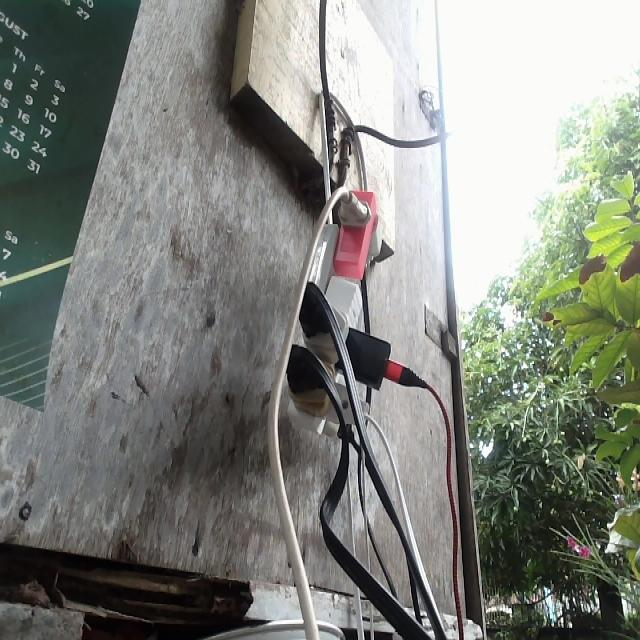-: (286, 185, 390, 436)
